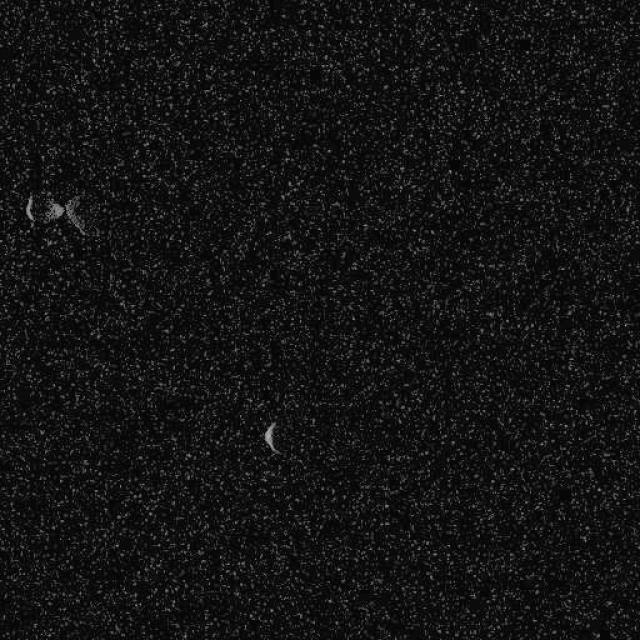D2: (24, 188, 91, 238), (262, 420, 282, 455)
